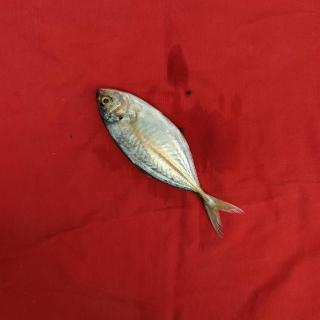Ikan: (87, 80, 263, 242)
